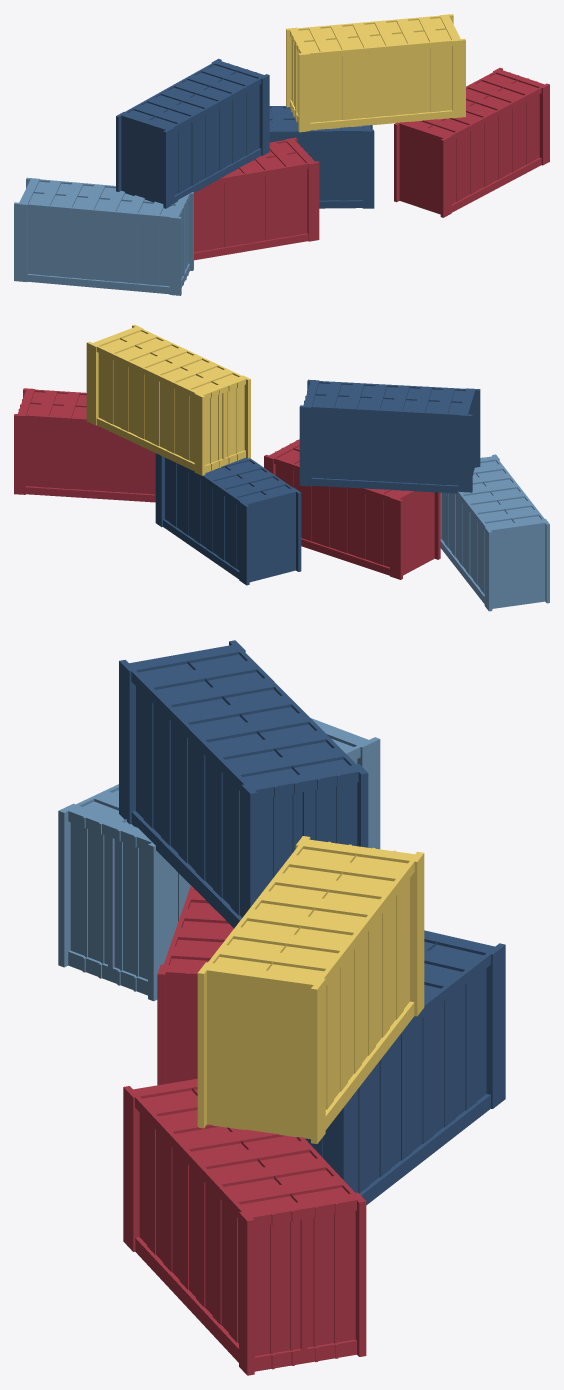
The model's file is SeaCont_Scene.fbx.
3 renders of one model, top to bottom at view 1: azimuth 30°, elevation 25°; view 2: azimuth 150°, elevation 25°; view 3: azimuth 270°, elevation 25°, orthographic. The views are drawn at different scales.
Parts seen in each view (by area): view 1: Cube.004, Cube.003, Cube.002, Cube.005, Cube, Cube.001; view 2: Cube.002, Cube.004, Cube.001, Cube.003, Cube.005, Cube; view 3: Cube.004, Cube.005, Cube.002, Cube.001, Cube.003, Cube.
Part boxes in pixels (x1,y1,x2,y2): Cube.004: [286, 14, 465, 132]; Cube.003: [14, 177, 193, 295]; Cube.002: [116, 58, 269, 208]; Cube.005: [394, 67, 549, 217]; Cube: [194, 137, 319, 260]; Cube.001: [269, 106, 374, 208]; Cube.002: [299, 379, 480, 493]; Cube.004: [86, 324, 250, 475]; Cube.001: [155, 453, 301, 585]; Cube.003: [440, 454, 549, 611]; Cube.005: [14, 388, 155, 502]; Cube: [264, 439, 440, 579]; Cube.004: [197, 836, 424, 1143]; Cube.005: [123, 1078, 366, 1375]; Cube.002: [119, 640, 368, 928]; Cube.001: [305, 930, 505, 1205]; Cube.003: [58, 718, 380, 1001]; Cube: [157, 885, 233, 1085].
Size of the model in its own units: 1425 by 400 by 524.
